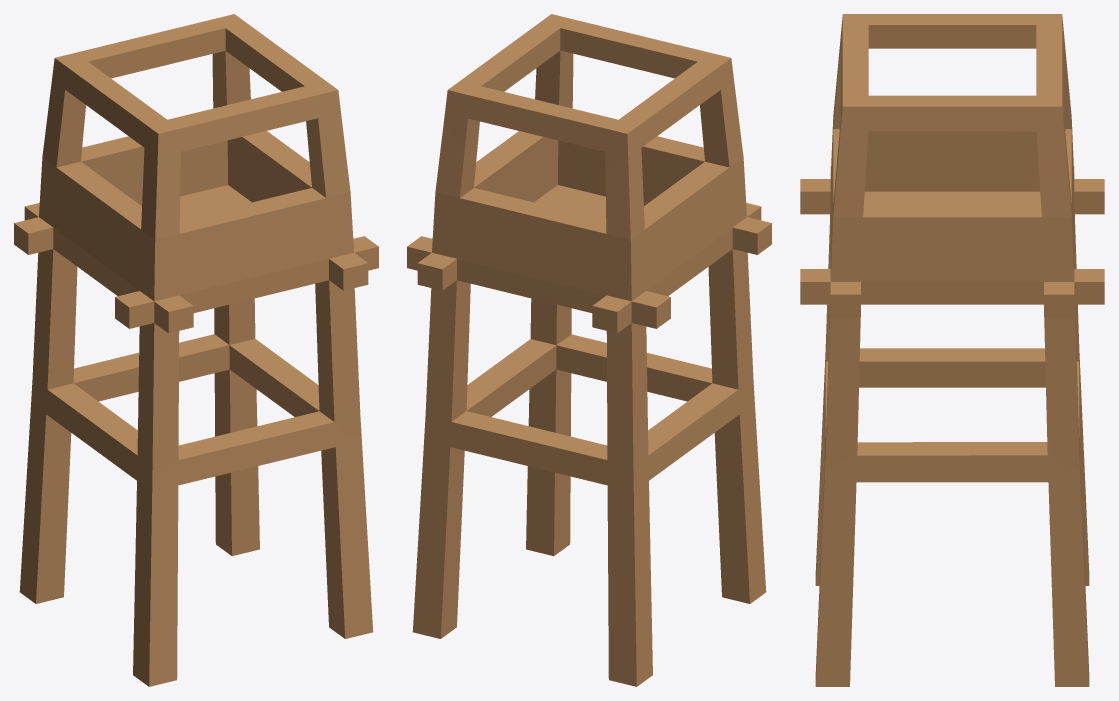
Rendered from WachTower2.fbx.
The picture shows the model from 3 angles, left to right: view 1: azimuth 30°, elevation 25°; view 2: azimuth 150°, elevation 25°; view 3: azimuth 270°, elevation 25°; orthographic projection. The views are drawn at different scales.
Parts seen in each view (by area): view 1: Watchtower.002; view 2: Watchtower.002; view 3: Watchtower.002.
Part boxes in pixels (x1,y1,x2,y2): Watchtower.002: (14, 14, 378, 686); Watchtower.002: (407, 14, 771, 686); Watchtower.002: (800, 14, 1104, 686).
Size of the model in its own units: 426 by 879 by 426.
